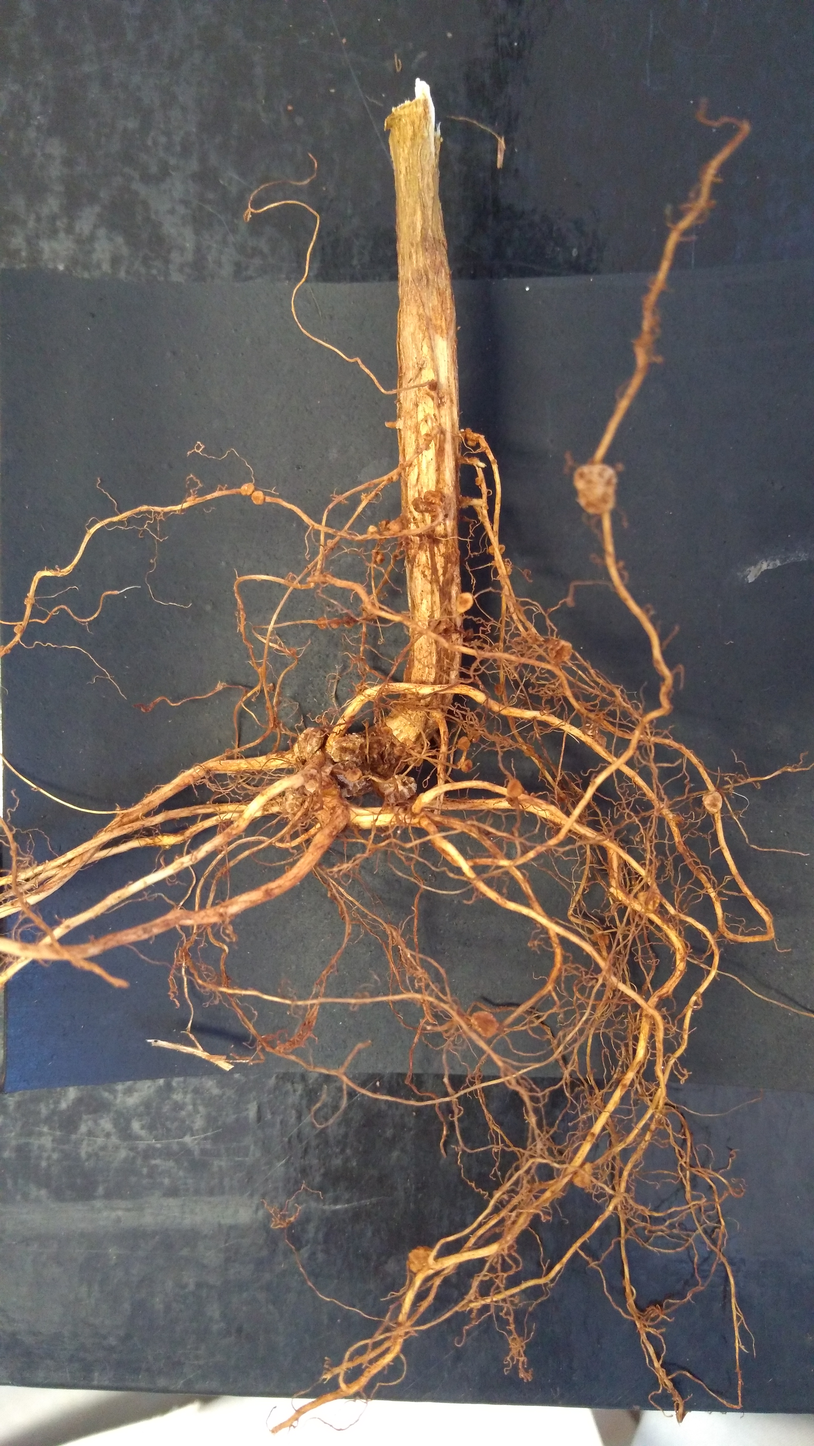nodule: (569, 461, 629, 516), (365, 724, 402, 778), (291, 725, 326, 765), (329, 730, 365, 763), (404, 1240, 437, 1275), (470, 1008, 501, 1040), (282, 787, 309, 819), (392, 772, 420, 801), (635, 888, 665, 915), (549, 635, 575, 664), (570, 1160, 594, 1191), (700, 789, 725, 816), (301, 768, 322, 795), (454, 590, 476, 615), (504, 776, 525, 799), (360, 599, 381, 620), (394, 736, 414, 758), (405, 746, 425, 766), (249, 488, 267, 508), (455, 735, 474, 753), (423, 489, 443, 506), (237, 480, 257, 497), (345, 767, 365, 783), (463, 426, 478, 447), (487, 543, 508, 557), (592, 733, 608, 750), (492, 681, 506, 700), (460, 757, 474, 775), (387, 518, 404, 532), (463, 627, 478, 642), (342, 615, 356, 629), (316, 615, 327, 631), (329, 615, 340, 631), (373, 553, 387, 565), (366, 524, 378, 535), (267, 681, 277, 693), (475, 475, 484, 487)
